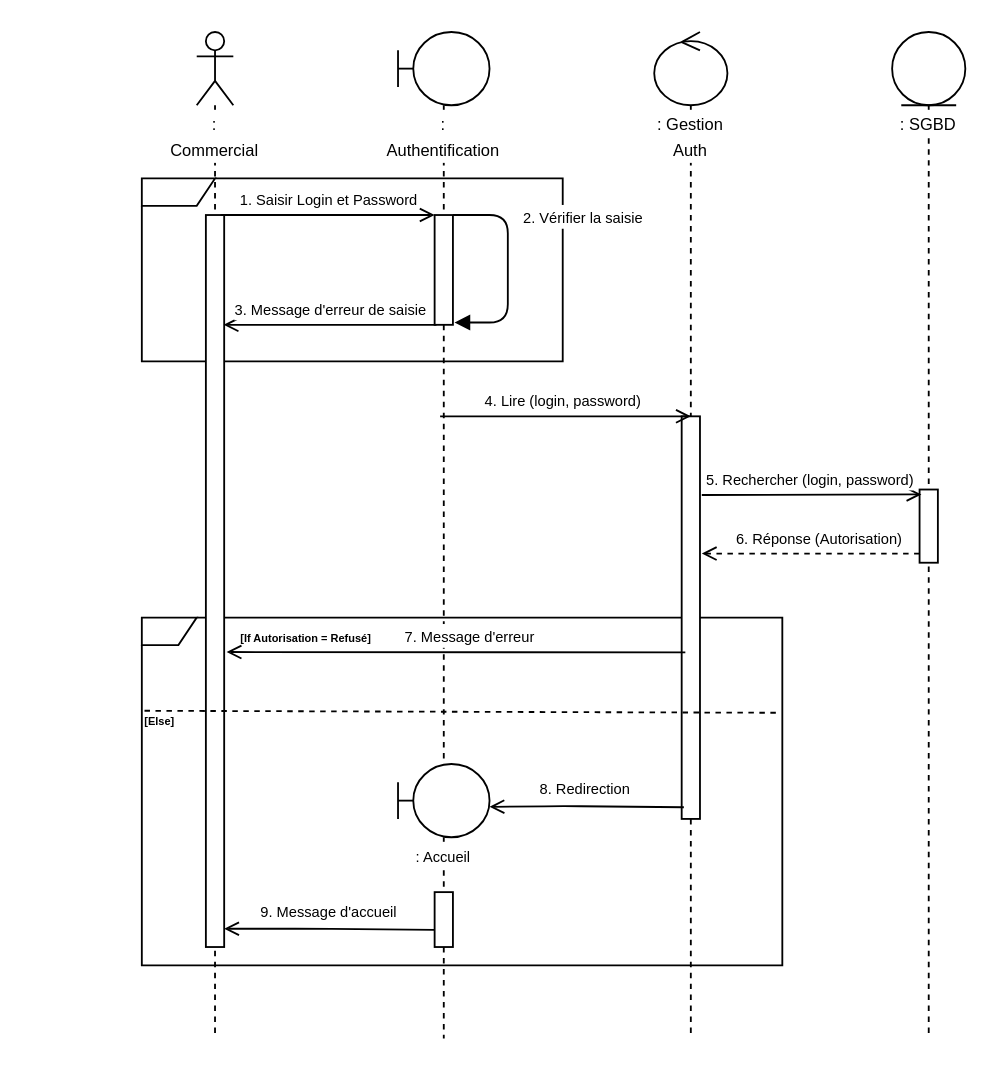
This 997x1071 diagram has some shape labels left out. Here are the shapes that lost their labels. From the top down, the box of each, then its label:
(140, 177, 563, 361): loop
(140, 616, 782, 965): alt
